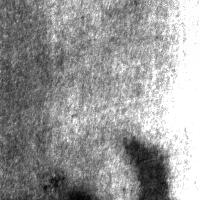patches: (120, 0, 200, 87), (44, 142, 106, 200), (122, 139, 169, 200), (127, 0, 195, 40)
